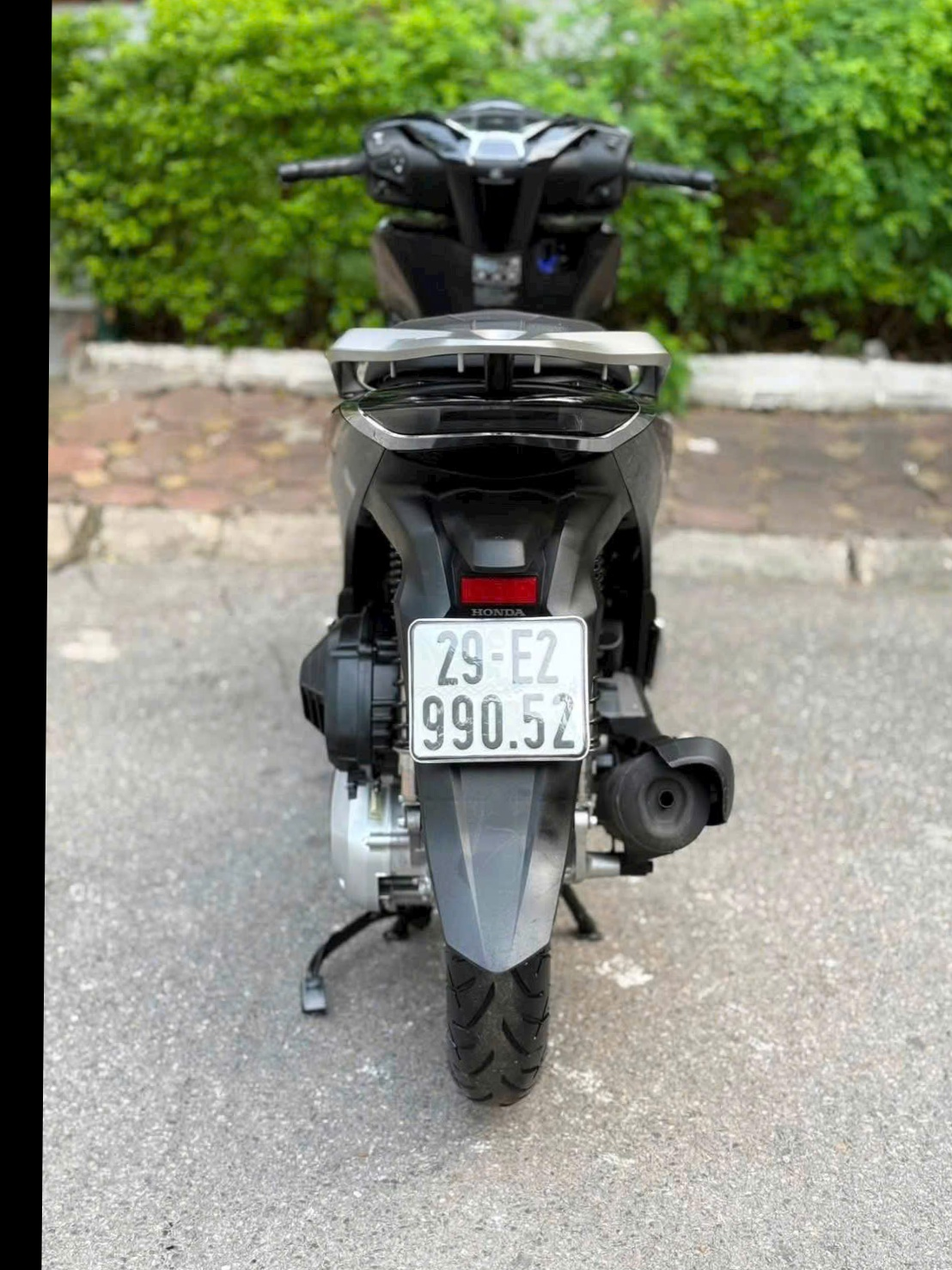Bien-so: (402, 611, 599, 772)
